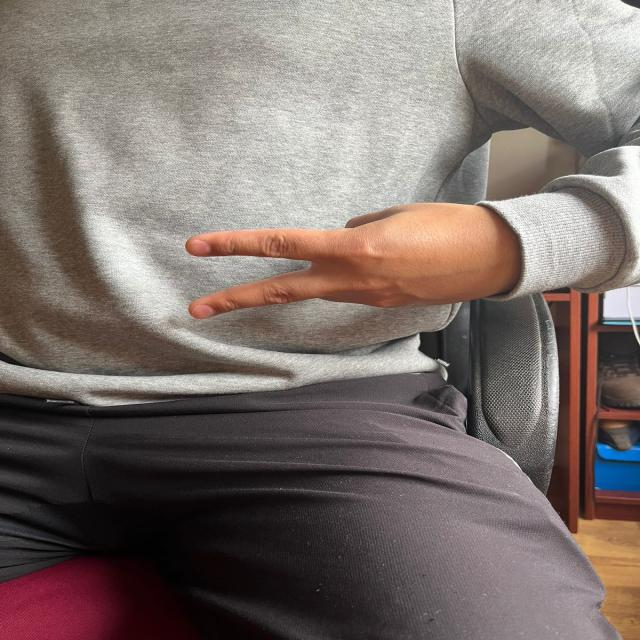H: (174, 194, 518, 323)
